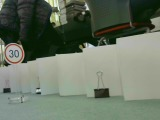speed_30: (2, 43, 24, 64)
